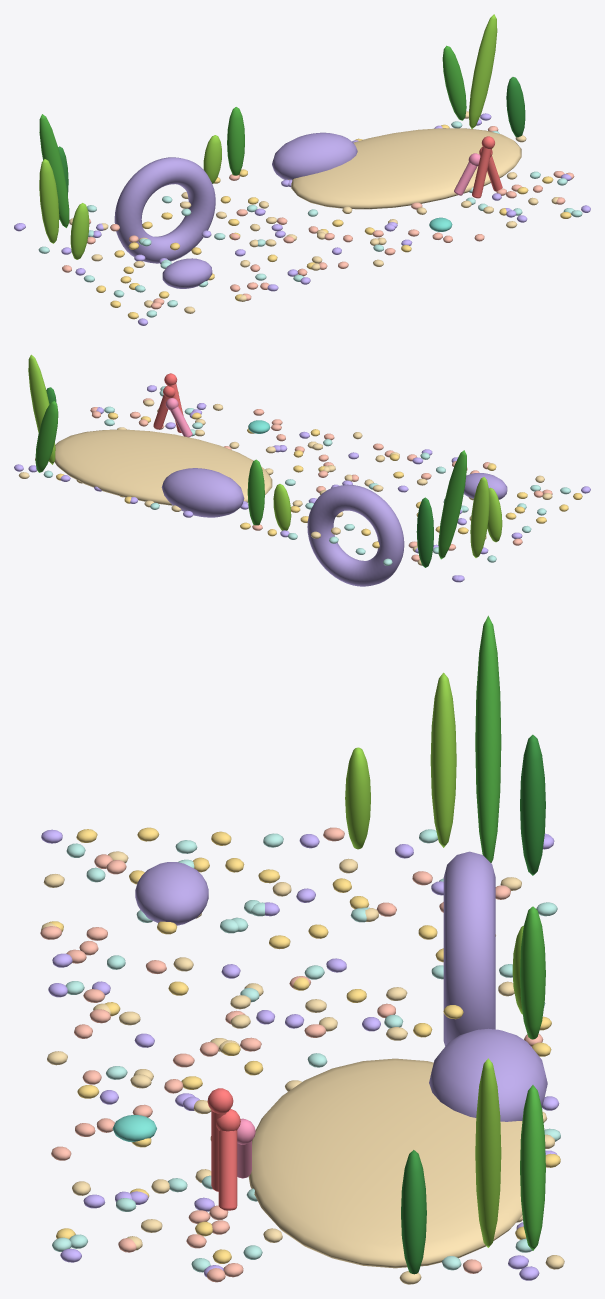
The model's file is TankBedShow.fbx.
3 views of the same model, one above another, from view 1: azimuth 30°, elevation 25°; view 2: azimuth 150°, elevation 25°; view 3: azimuth 270°, elevation 25° (orthographic). The views are drawn at different scales.
Visible parts, largest first — view 1: TankBedShow mesh; view 2: TankBedShow mesh; view 3: TankBedShow mesh.
Part boxes in pixels (left/top/right/bottom): TankBedShow mesh: left=14, top=14, right=590, bottom=325; TankBedShow mesh: left=14, top=354, right=590, bottom=586; TankBedShow mesh: left=40, top=615, right=564, bottom=1284.
Bounding box in the file's own units: 2.87 × 0.9824 × 1.41.
